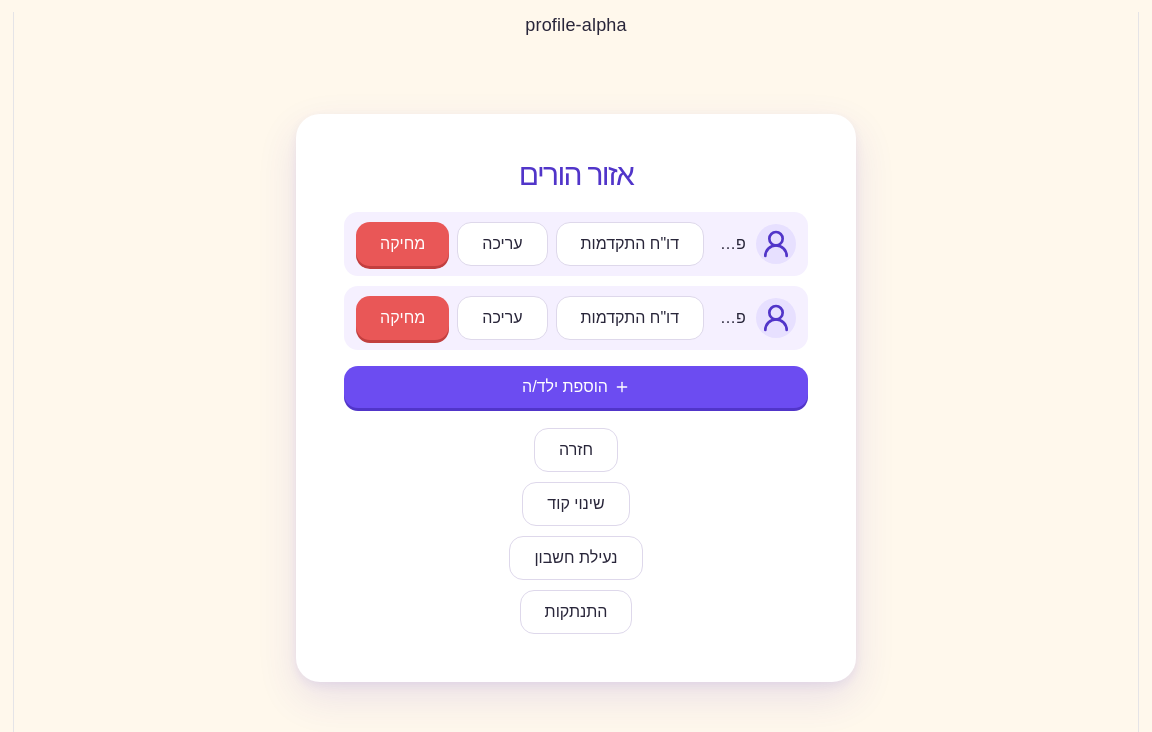
ParentZonePage — gate hand-off › returns to the PIN gate when deleting fails because the session expired
Click the button "מחיקה" in the row of "פרופיל אלפא": coordinates (403, 244) [356,222,449,266]
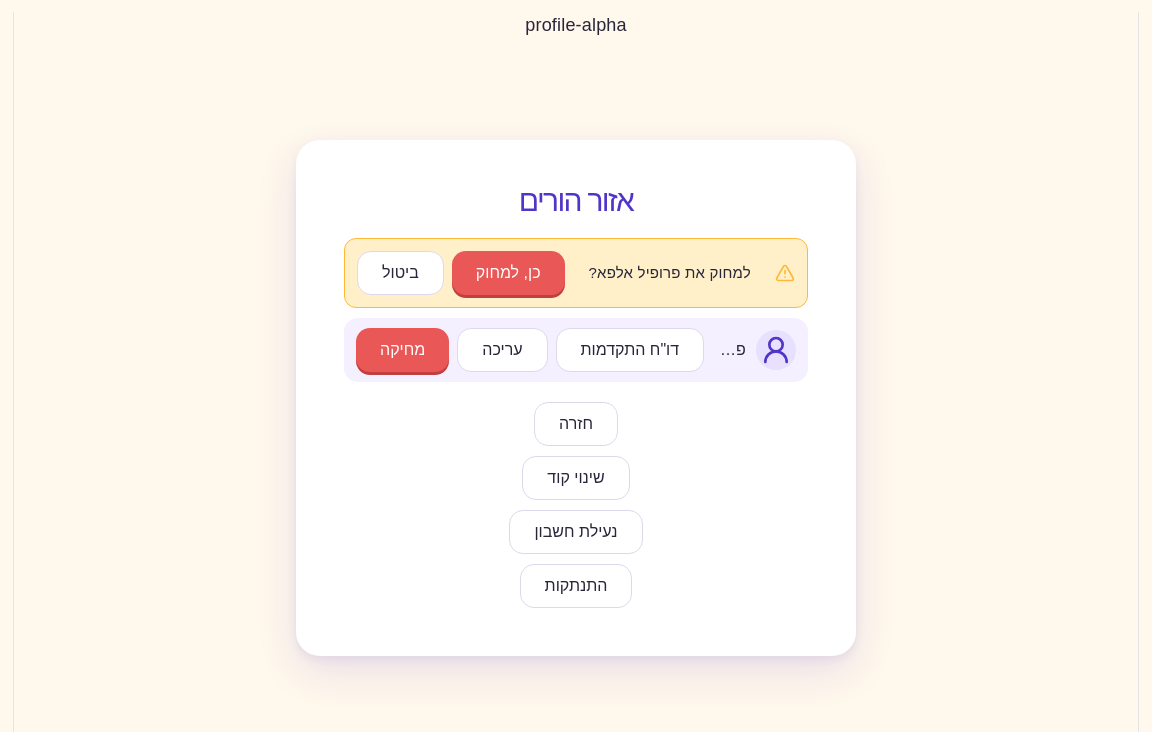
Click the button "כן, למחוק": coordinates (508, 273) [452,251,564,295]
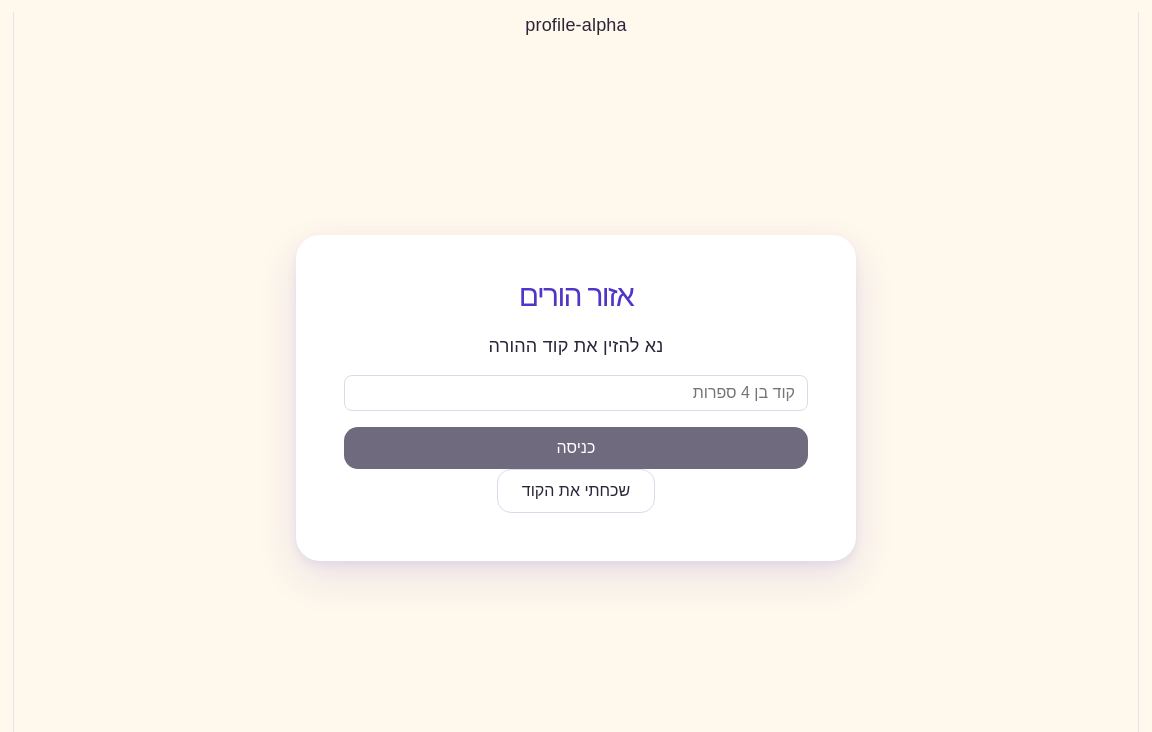
expect the password field named "קוד ההורה בן 4 ספרות" is shown: met, box [344,375,808,411]
